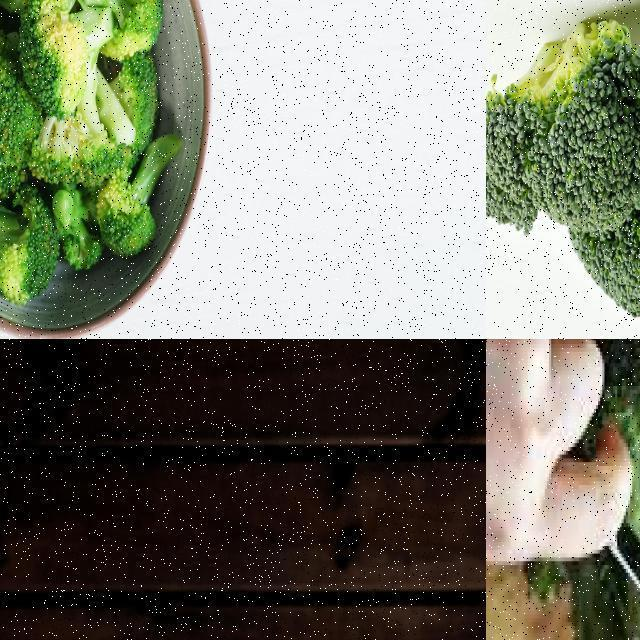broccoli: (486, 0, 639, 329), (566, 339, 639, 639), (29, 58, 127, 191), (96, 125, 190, 262), (20, 0, 119, 119), (0, 181, 57, 306), (0, 26, 43, 166), (73, 0, 163, 64)
